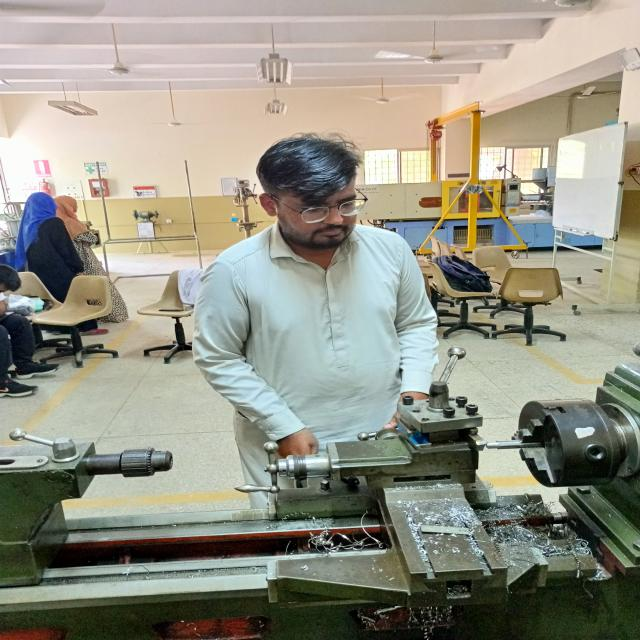dress: (190, 218, 443, 514), (56, 193, 132, 327), (11, 186, 90, 304)
glasses: (297, 193, 372, 226)
